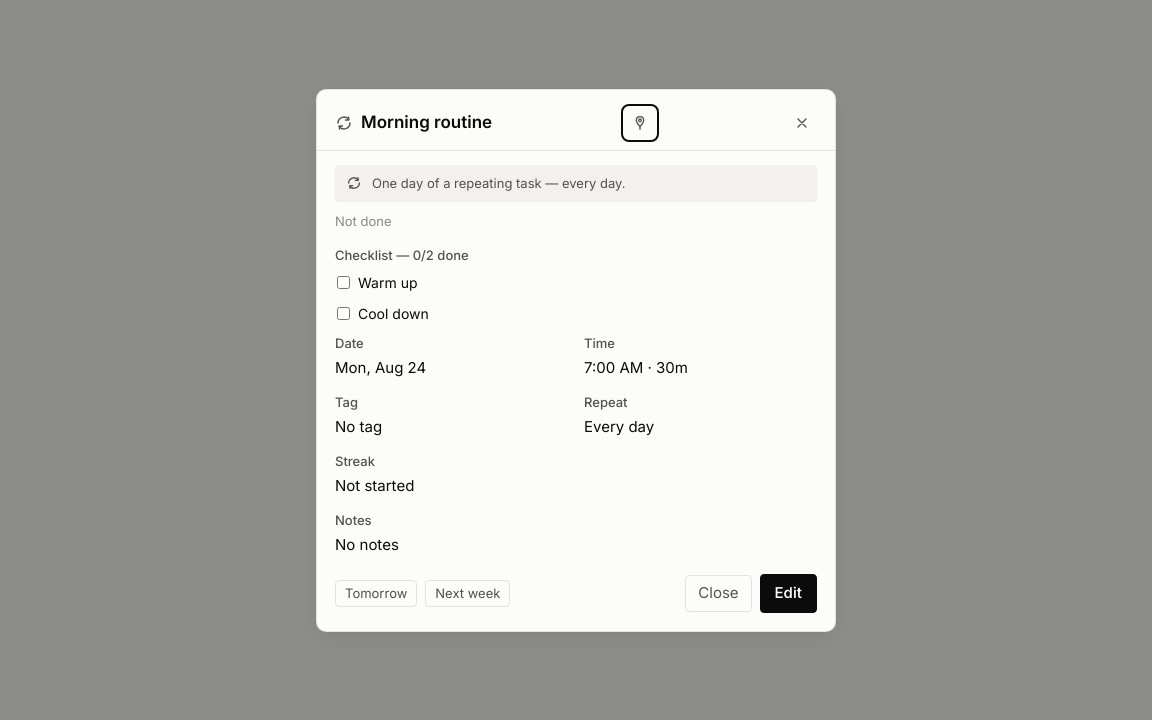
Scenario: ItemDetail checklist on an occurrence › shows every item, and ticks the first one against the occurrence id
The width and height of the screenshot is (1152, 720).
Check: the text "Warm up" is shown, box [358,274,418,291]
Check: the text "Cool down" is shown, box [358,305,429,322]
Click the checkbox named "Warm up".
click(344, 282)  # box [337,276,350,289]
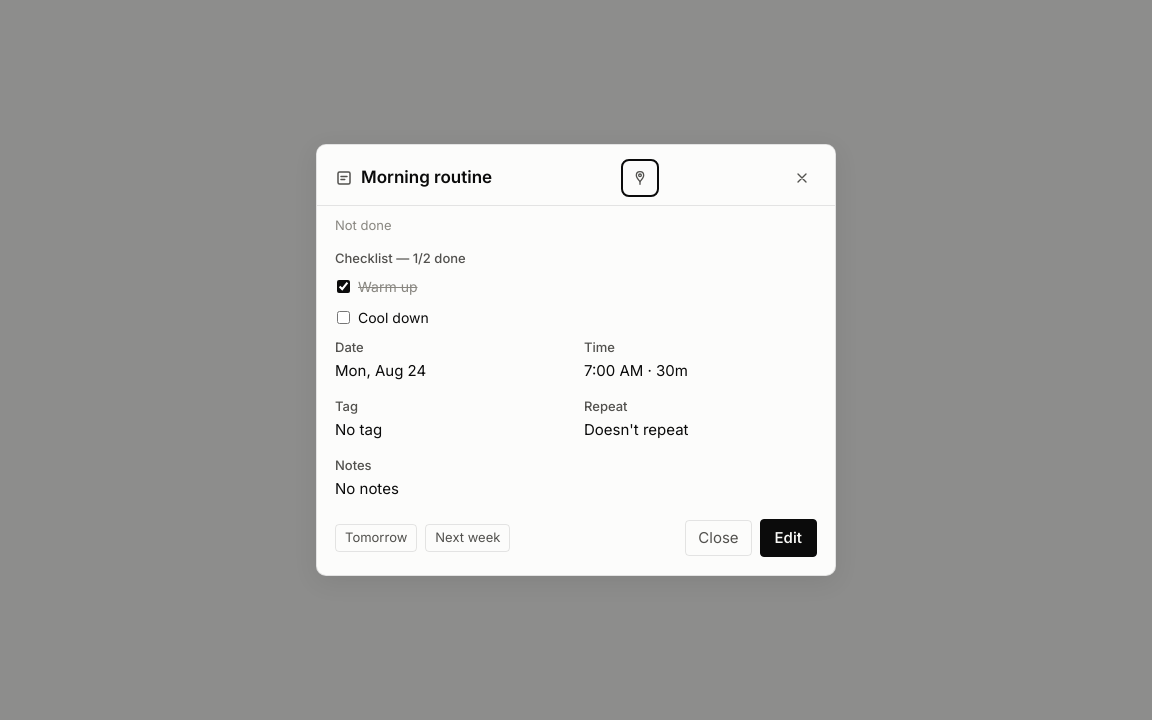
Check: the text "Checklist — 1/2 done" is shown, box [335,250,466,266]
